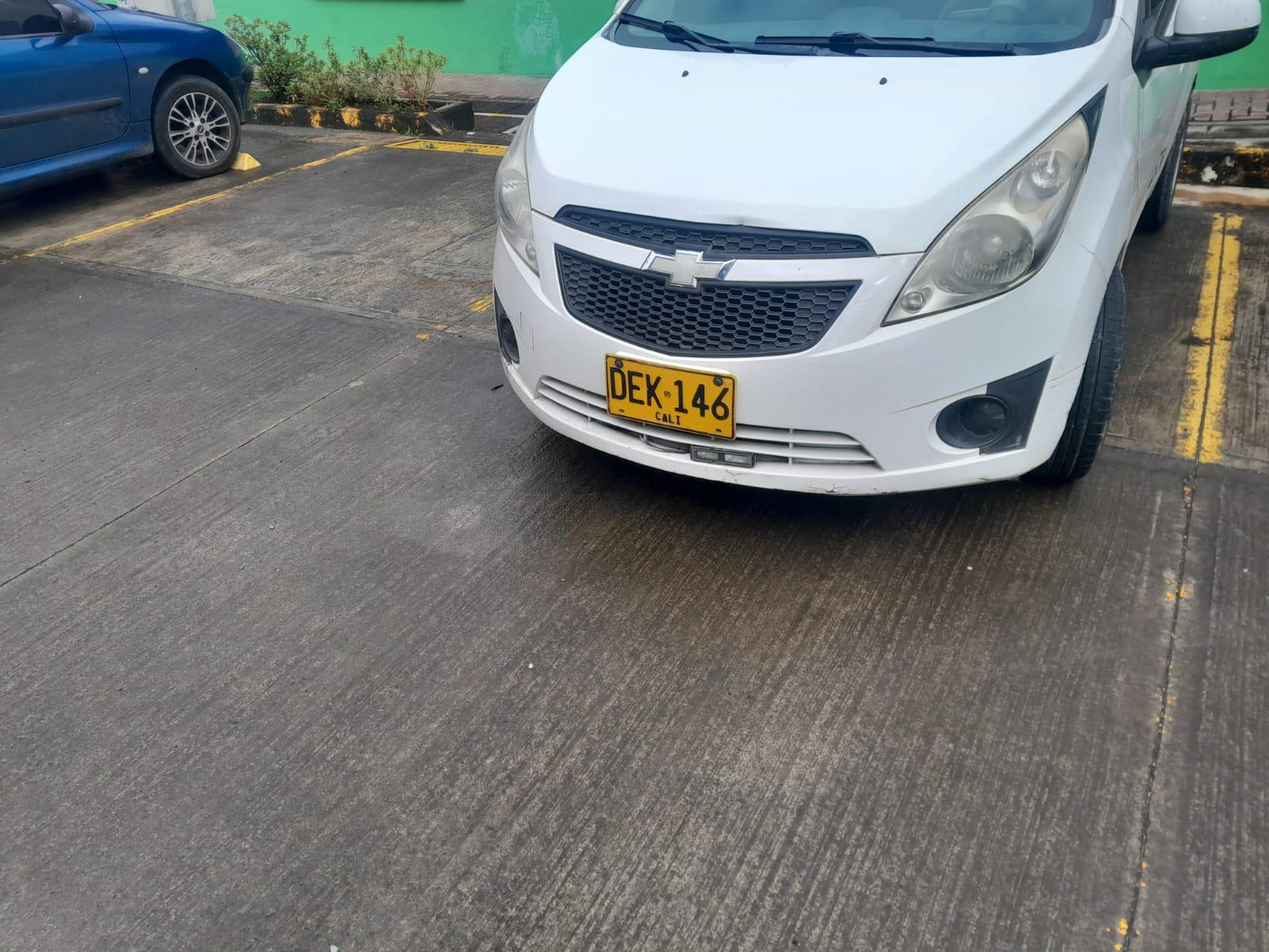placa: (605, 354, 735, 437)
